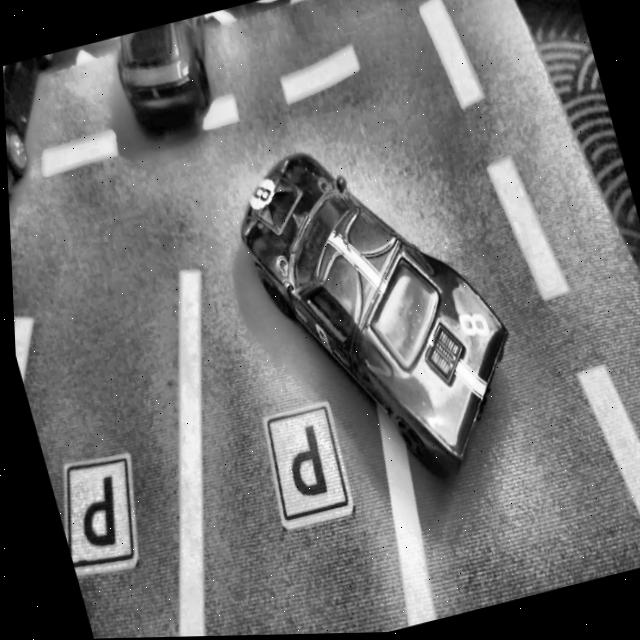car: (218, 113, 539, 513), (106, 15, 229, 134), (2, 57, 69, 207)
